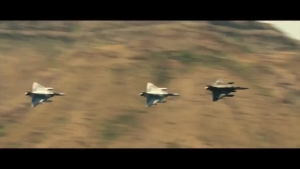flight: (138, 81, 181, 108), (23, 81, 66, 108), (203, 79, 250, 101)
